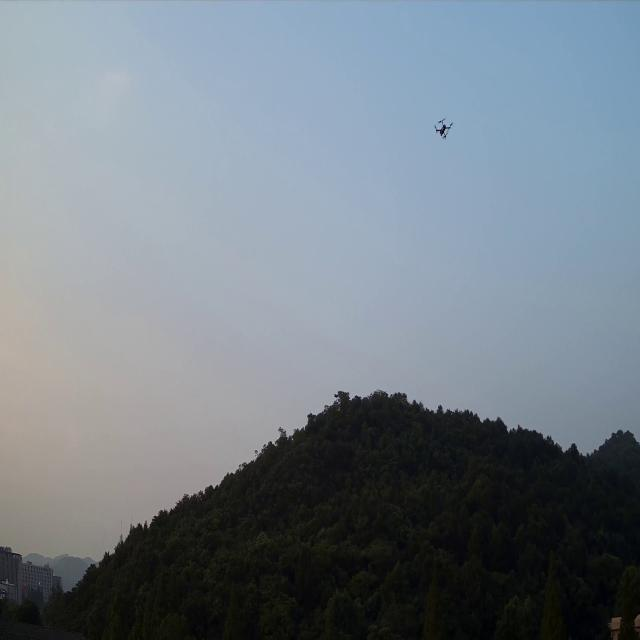UAV: (435, 117, 452, 138)
